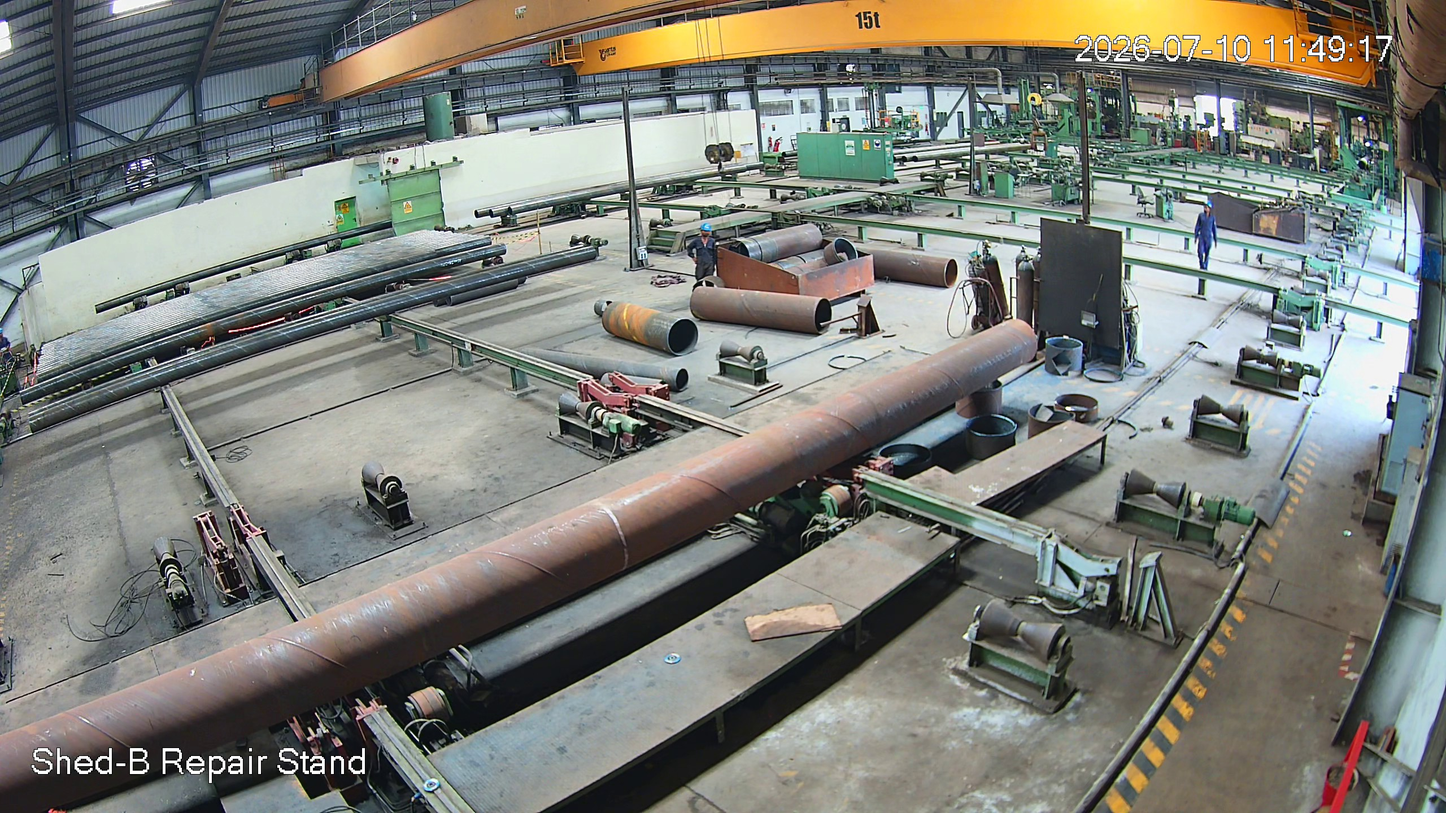Helmet: (695, 217, 716, 249), (1199, 200, 1216, 226)
Person: (684, 218, 720, 286), (1197, 201, 1219, 272)
